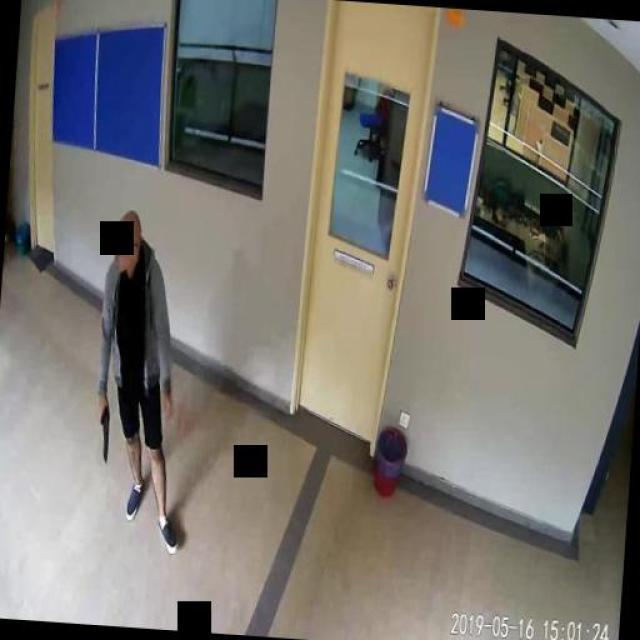gun: (95, 402, 111, 462)
